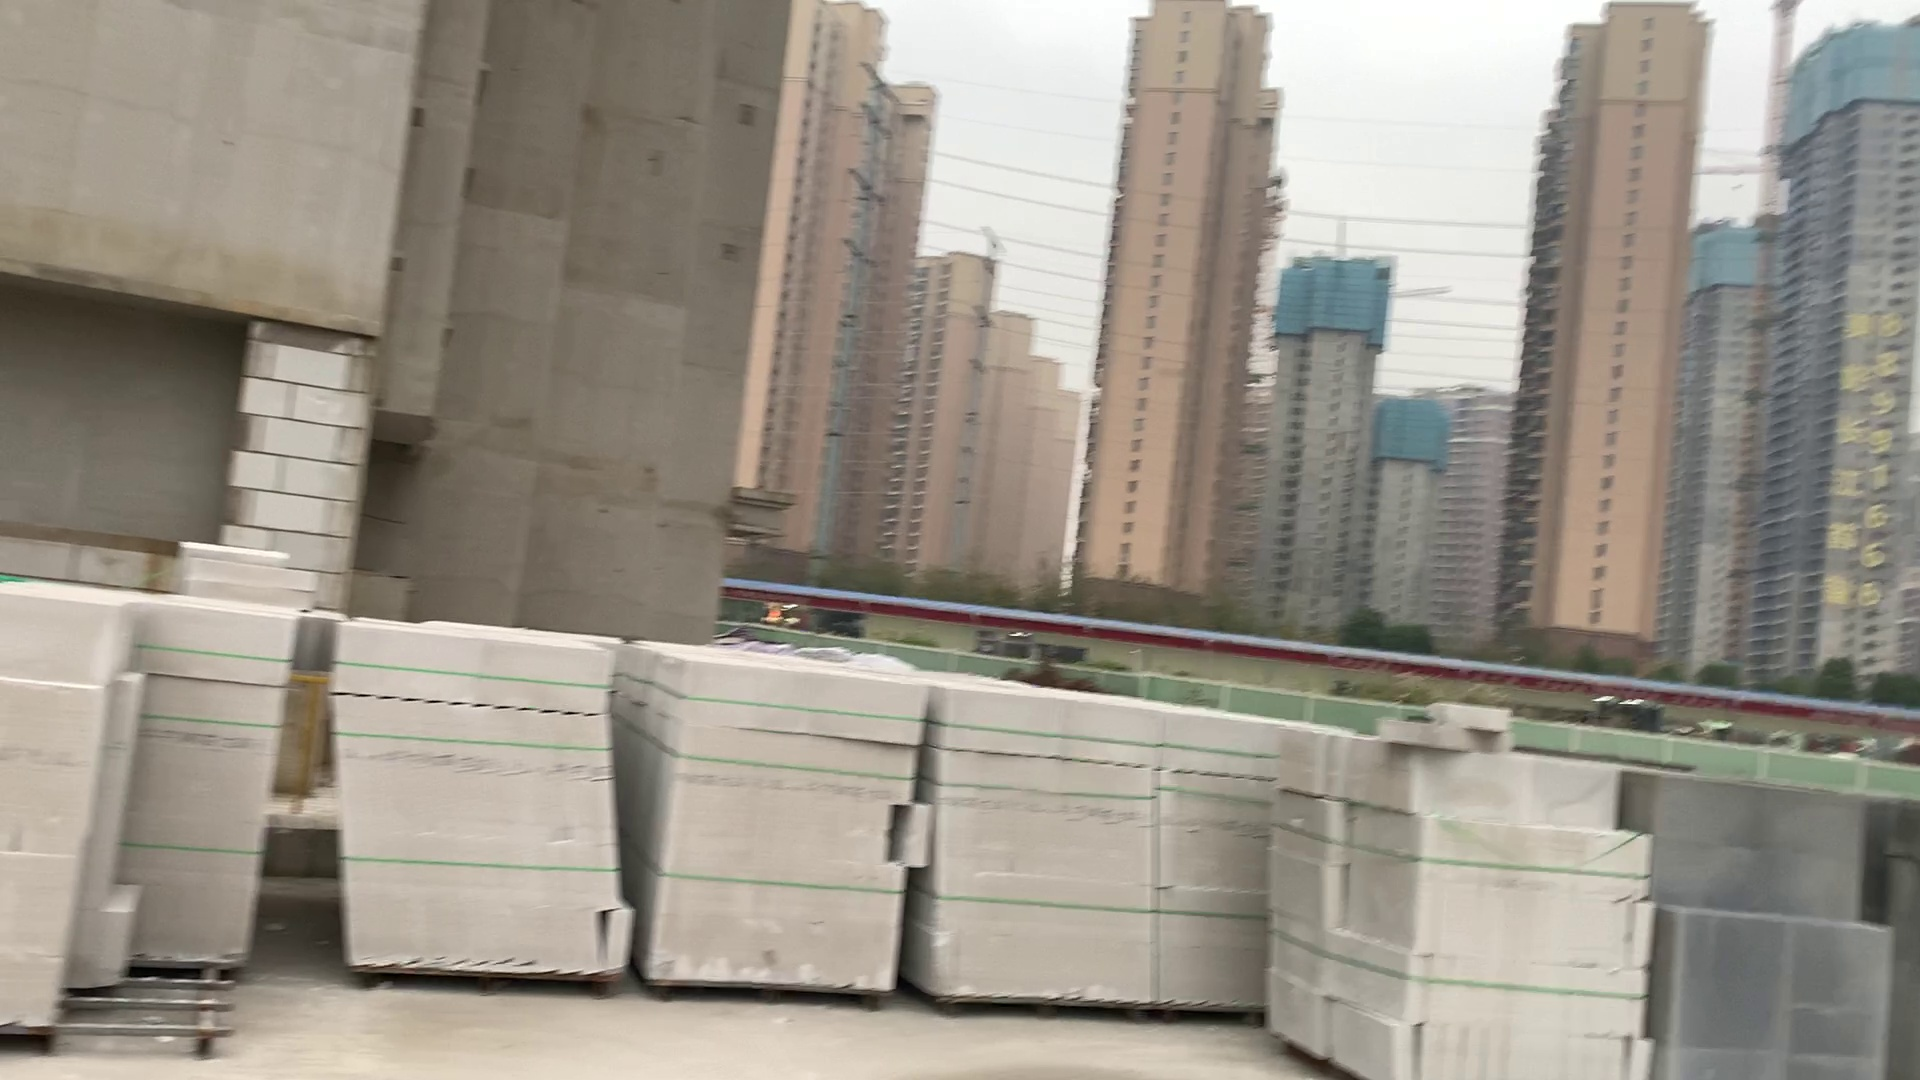brickwork: (8, 591, 305, 1043), (1270, 741, 1654, 1080), (324, 629, 626, 993), (651, 649, 913, 993), (1642, 752, 1912, 1080), (934, 694, 1158, 1023), (1158, 705, 1276, 1031)
